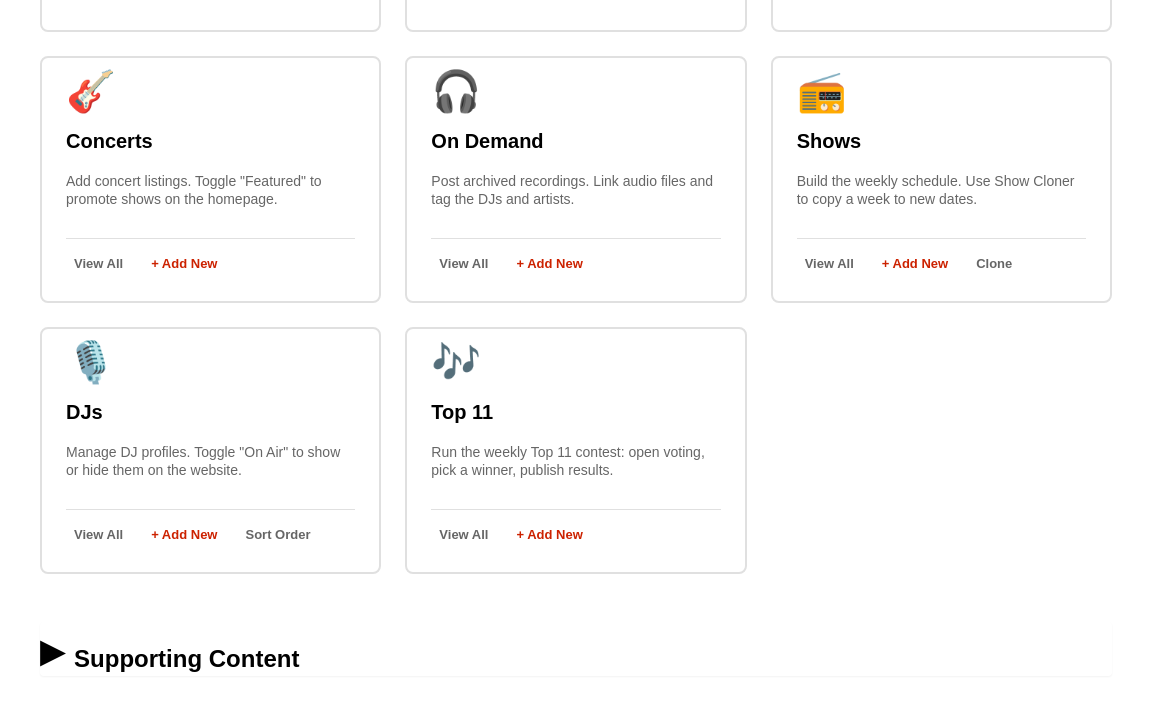
Test: CustomDashboard › secondary collections accordion › updates aria-expanded when toggled
(page scrolled)
Click the button "▸ Supporting Content" at (187, 659), box [40,622,1112,676]
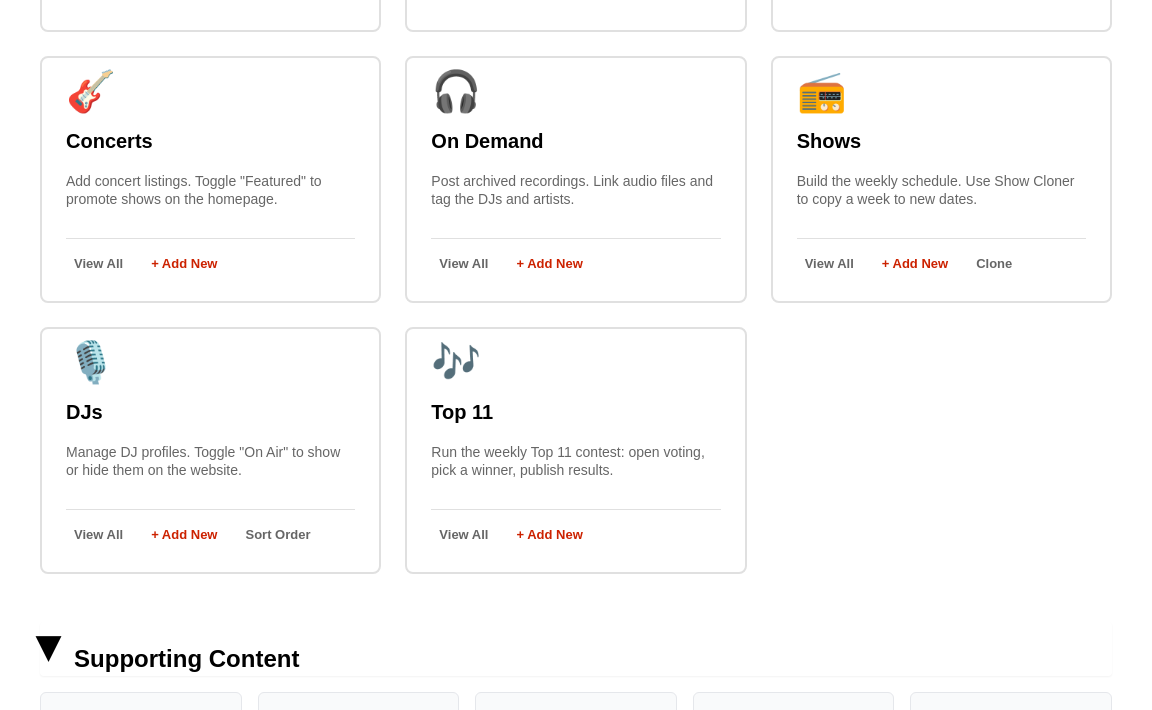
Expected: the button "▸ Supporting Content" is expanded
Click the button "▸ Supporting Content" at (187, 659), box [40,622,1112,676]
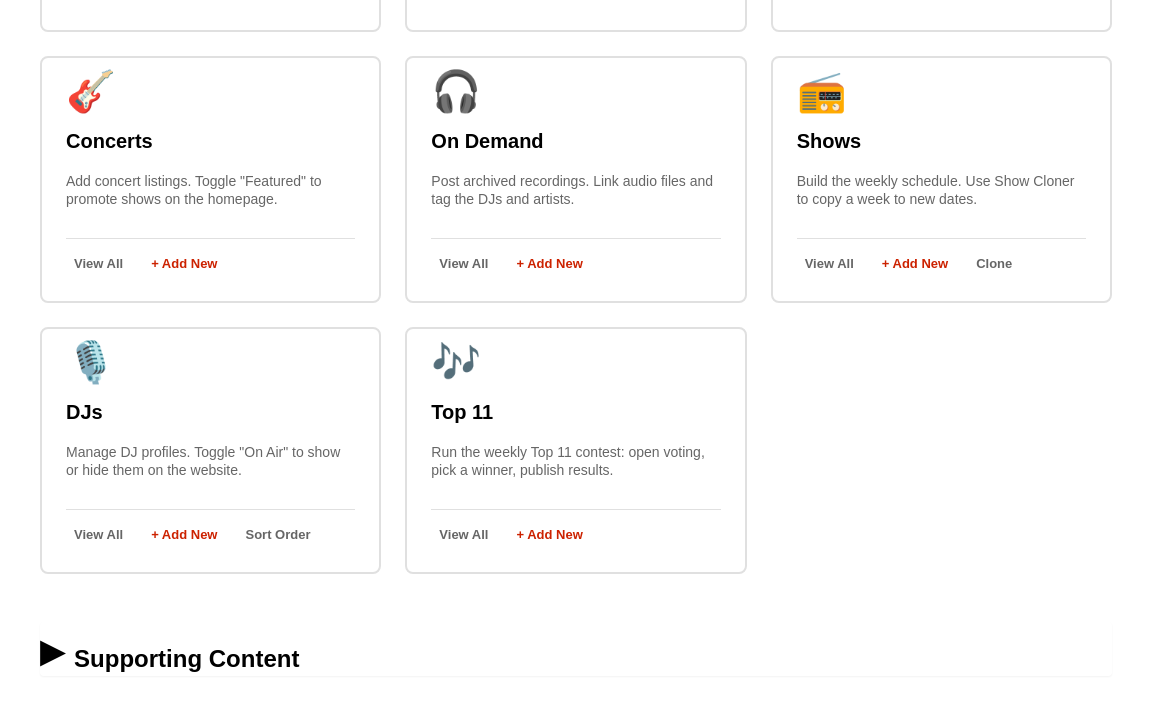
Expected: the button "▸ Supporting Content" is collapsed, [40,622,1112,676]
